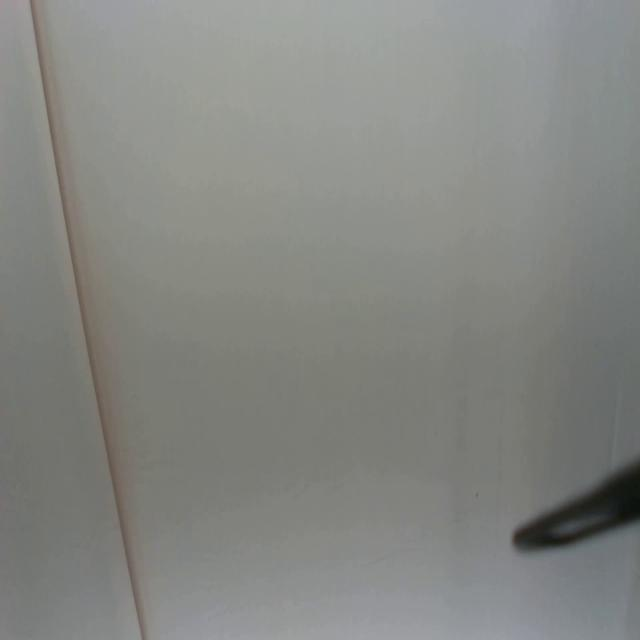crease: (26, 0, 146, 640)
